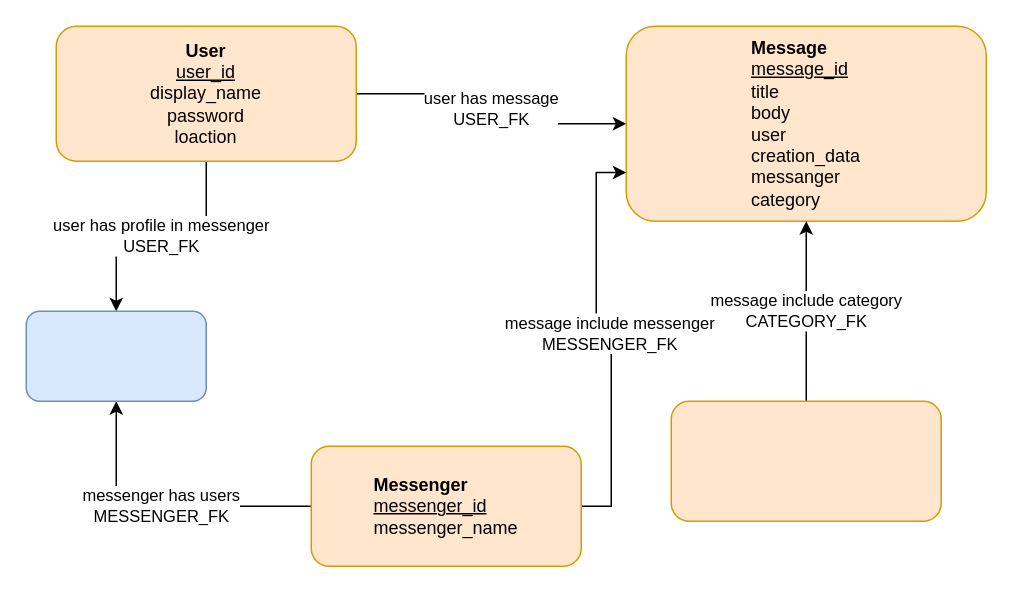
Some shapes in this 1013 by 593 pixel diagram are drawn without their labels. Here are the shapes that lost their labels. From the top down, the centre of each, then its label:
At [115,355]: "User in Messenger user messenger".
At [805,460]: "Category category_id category_name count".
